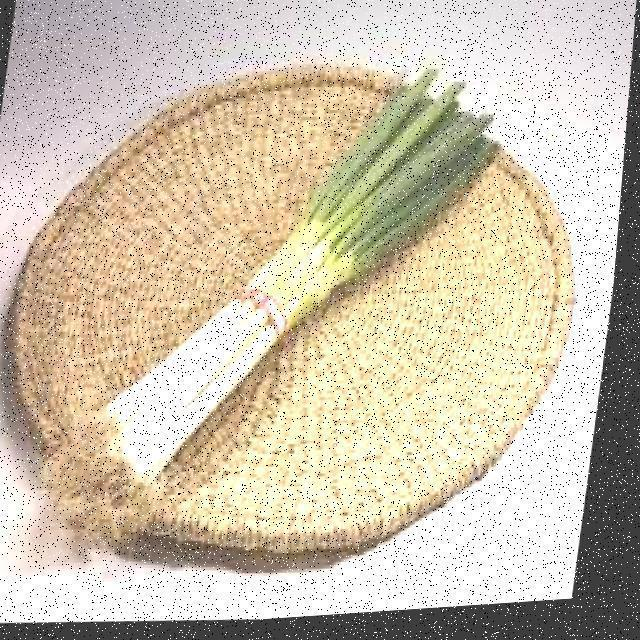green_onion: (65, 78, 492, 509)
